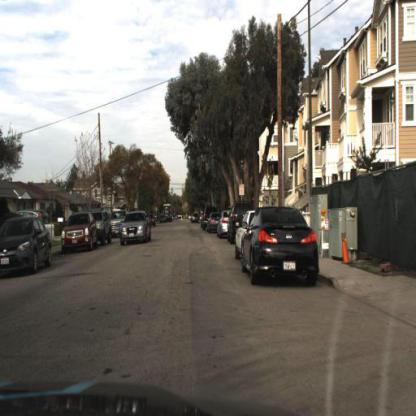car: (241, 208, 323, 286), (1, 216, 56, 279), (60, 209, 100, 253), (117, 207, 153, 247), (103, 210, 128, 243), (217, 209, 238, 246), (95, 205, 113, 248), (15, 207, 54, 224), (97, 210, 113, 246)
truck: (164, 204, 173, 222)
